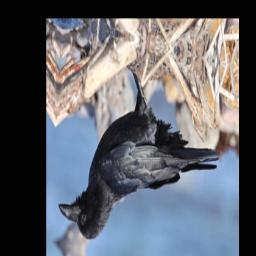Crow: (56, 46, 228, 256)
